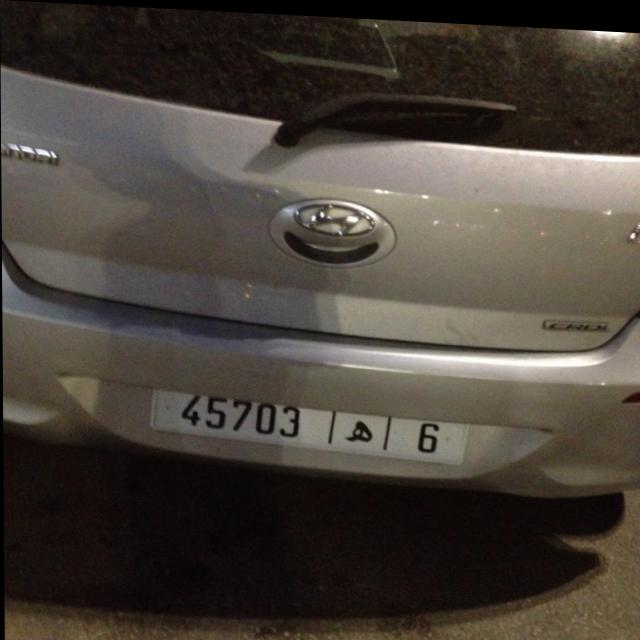License-Plate: (151, 389, 467, 459)
